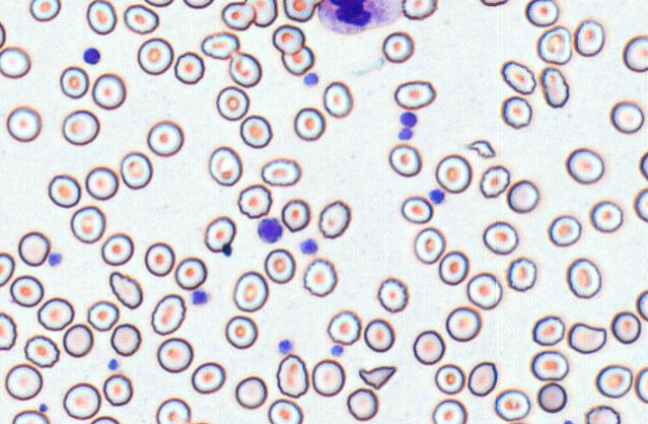GRAN: (315, 0, 404, 34)
PLT: (256, 217, 284, 245), (298, 238, 320, 256), (82, 46, 101, 66), (190, 289, 211, 307), (400, 111, 419, 128), (277, 337, 294, 354), (428, 188, 446, 204), (304, 71, 321, 86), (397, 127, 415, 140), (47, 253, 62, 267), (328, 345, 344, 357), (107, 356, 120, 370)
RBC: (232, 270, 269, 312), (275, 353, 309, 398), (434, 153, 472, 193), (150, 293, 186, 335), (4, 363, 43, 400), (62, 382, 101, 419), (565, 147, 604, 184), (536, 25, 572, 65), (566, 257, 601, 298), (302, 257, 337, 297), (208, 145, 242, 186), (137, 37, 173, 75), (61, 109, 99, 145), (156, 337, 193, 373), (466, 272, 502, 309), (146, 120, 183, 156), (70, 205, 105, 243), (311, 358, 345, 397), (393, 79, 435, 110), (445, 306, 481, 342), (37, 296, 74, 331), (6, 105, 41, 142), (91, 72, 126, 109), (595, 364, 633, 398), (318, 199, 351, 238), (326, 309, 361, 345), (500, 59, 536, 94), (119, 151, 152, 189), (110, 272, 143, 310), (237, 183, 272, 218), (215, 85, 249, 121), (482, 220, 518, 254), (228, 50, 261, 87), (542, 68, 571, 110), (204, 215, 236, 253), (413, 226, 445, 264), (573, 18, 605, 56), (530, 350, 569, 381), (24, 334, 59, 368), (47, 173, 81, 208), (609, 100, 644, 134), (260, 157, 301, 186), (412, 329, 445, 365), (494, 388, 530, 421), (17, 230, 50, 266), (322, 80, 353, 118), (388, 143, 422, 177), (100, 232, 134, 266), (589, 199, 623, 233), (224, 314, 257, 349), (9, 274, 44, 307), (376, 277, 408, 313), (191, 361, 225, 394), (234, 375, 267, 409), (174, 256, 207, 290), (506, 179, 539, 213), (85, 166, 118, 200), (239, 114, 272, 148), (263, 248, 295, 283), (505, 256, 537, 291), (293, 106, 325, 141), (123, 3, 159, 34), (200, 31, 239, 59), (346, 387, 378, 421), (531, 314, 565, 346), (547, 214, 581, 246), (144, 241, 175, 276), (438, 250, 469, 285), (381, 31, 414, 63), (500, 95, 532, 128), (62, 323, 93, 357), (479, 164, 510, 198), (110, 322, 141, 356), (610, 310, 641, 344), (86, 0, 117, 34), (363, 318, 394, 352), (467, 361, 497, 396), (86, 300, 119, 331), (102, 373, 133, 406), (173, 51, 204, 84), (280, 198, 310, 232), (281, 45, 314, 75), (272, 24, 305, 54), (59, 65, 89, 98), (221, 1, 255, 30), (434, 363, 465, 394), (536, 382, 567, 413), (0, 46, 30, 78), (400, 195, 433, 224), (622, 34, 647, 72), (155, 397, 191, 423), (525, 0, 559, 27), (267, 398, 303, 423), (431, 398, 467, 423), (282, 0, 318, 22), (401, 0, 437, 20), (583, 404, 620, 423), (29, 0, 61, 21), (0, 311, 17, 350), (11, 409, 50, 423), (0, 251, 15, 286), (633, 186, 647, 222), (634, 366, 647, 403), (636, 289, 647, 321), (182, 0, 214, 9), (639, 150, 647, 180), (90, 415, 120, 423), (143, 0, 173, 7), (479, 0, 508, 6), (0, 20, 6, 48), (188, 420, 211, 424)
Schistocyte: (568, 322, 610, 354), (358, 366, 397, 390), (246, 0, 277, 28), (468, 140, 495, 158)
